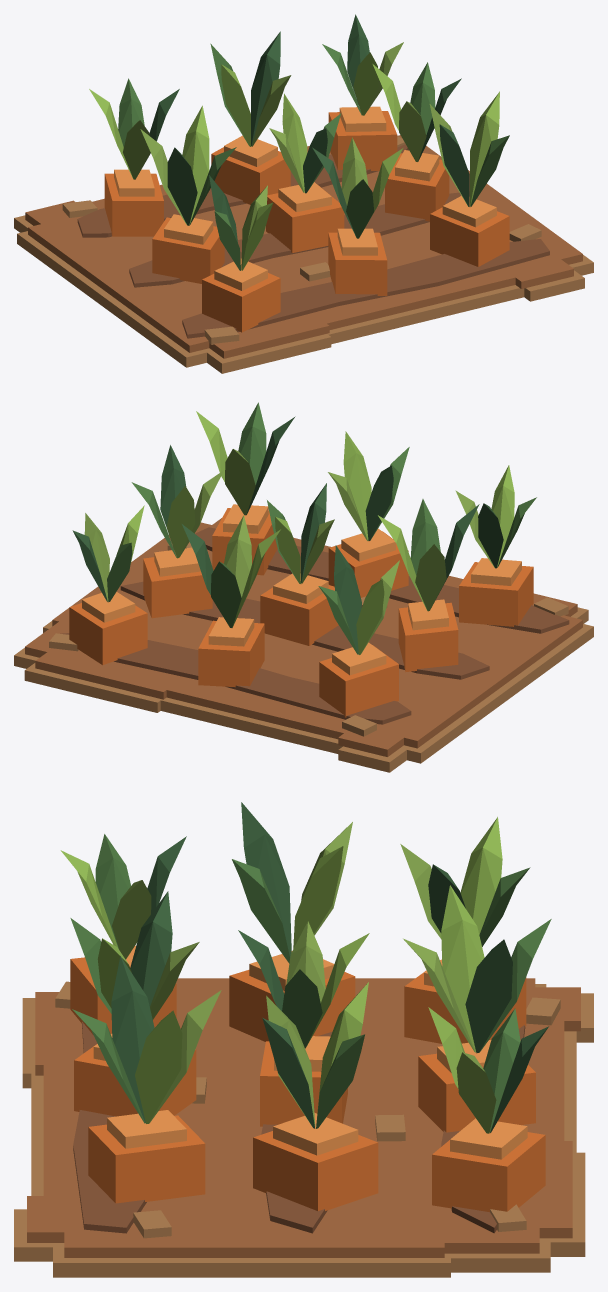
Rendered from plot-carrot.glb.
3 views of the same model, one above another, from view 1: azimuth 30°, elevation 25°; view 2: azimuth 150°, elevation 25°; view 3: azimuth 270°, elevation 25° (orthographic). The views are drawn at different scales.
Visible parts, largest first — view 1: Blade; view 2: Blade; view 3: Blade.
Boxes of the visible parts, box(x1,y1,x2,y2) form: Blade: box(14, 14, 593, 373); Blade: box(14, 402, 593, 772); Blade: box(14, 802, 593, 1277).
Size of the model in its own units: 1.77 by 0.6846 by 1.55.
